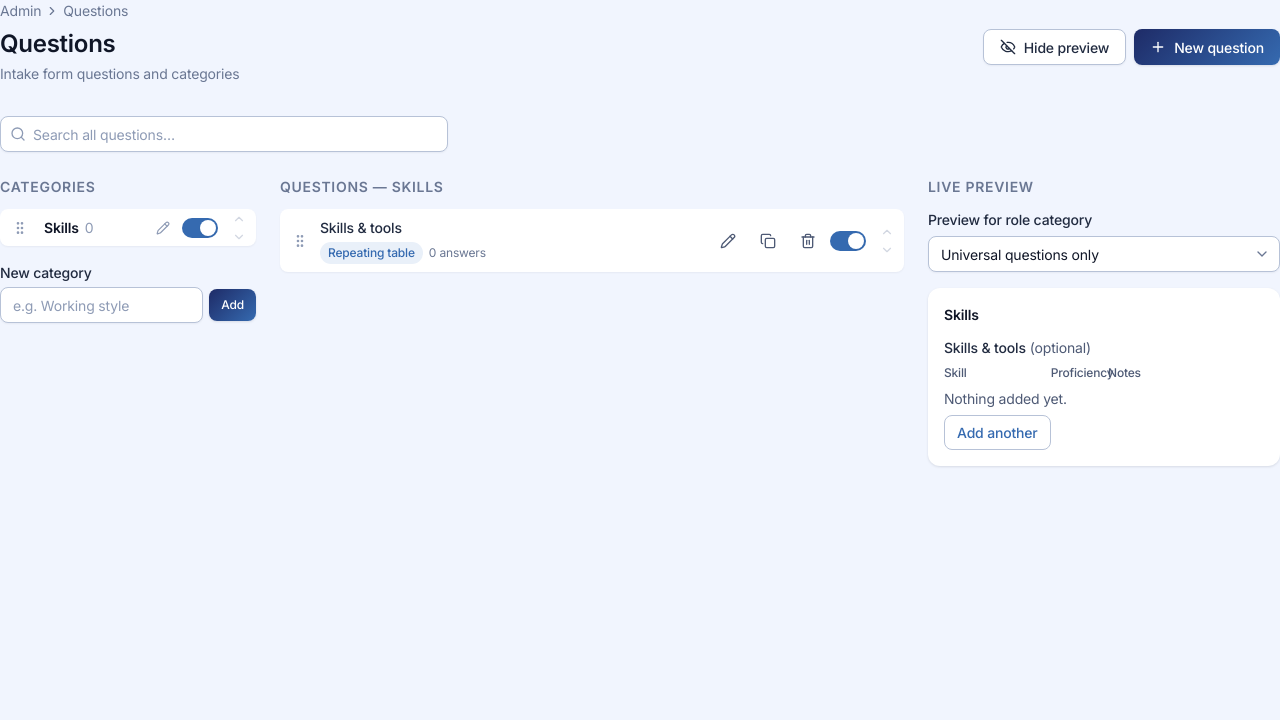
Test case: a repeating group's columns are shown, never edited › says so plainly when a new repeating group has no columns yet
The width and height of the screenshot is (1280, 720).
Click the button "New question".
click(1207, 47)  # box x1=1134 y1=29 x2=1279 y2=65
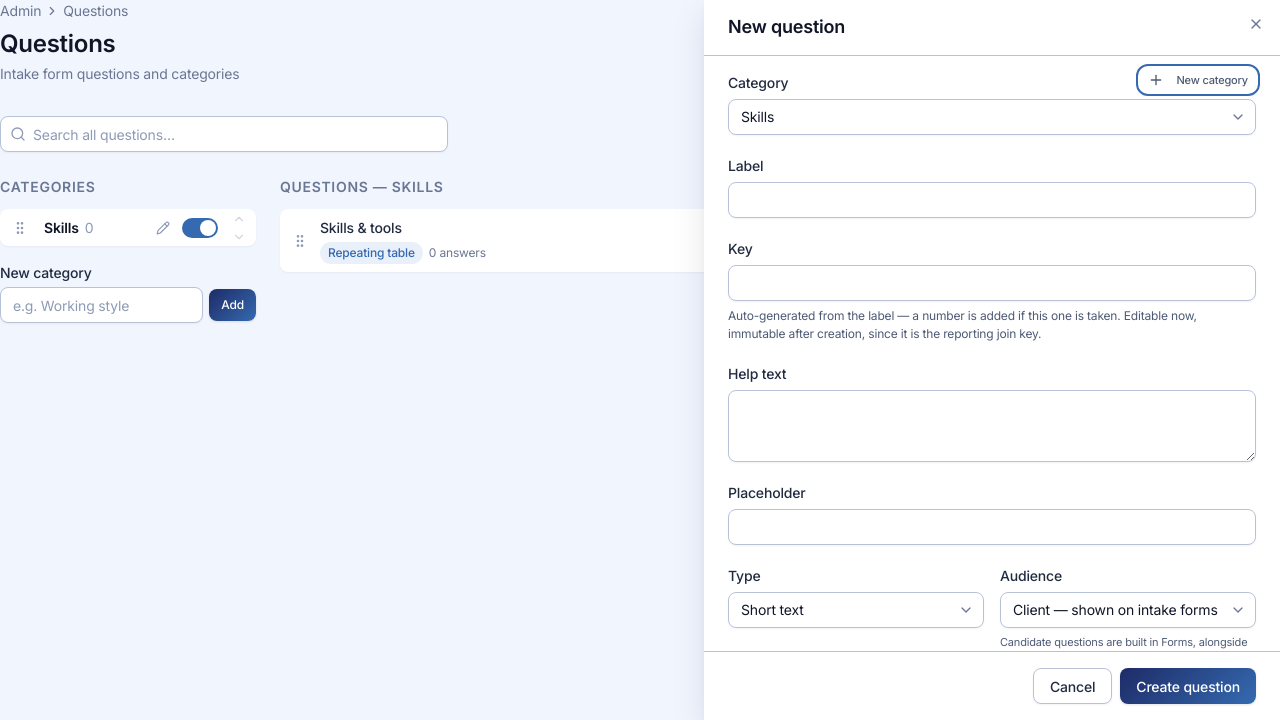
Select "Repeating table" in the dropdown labelled "Type" at (856, 610), box x1=728 y1=592 x2=984 y2=628
(page scrolled)
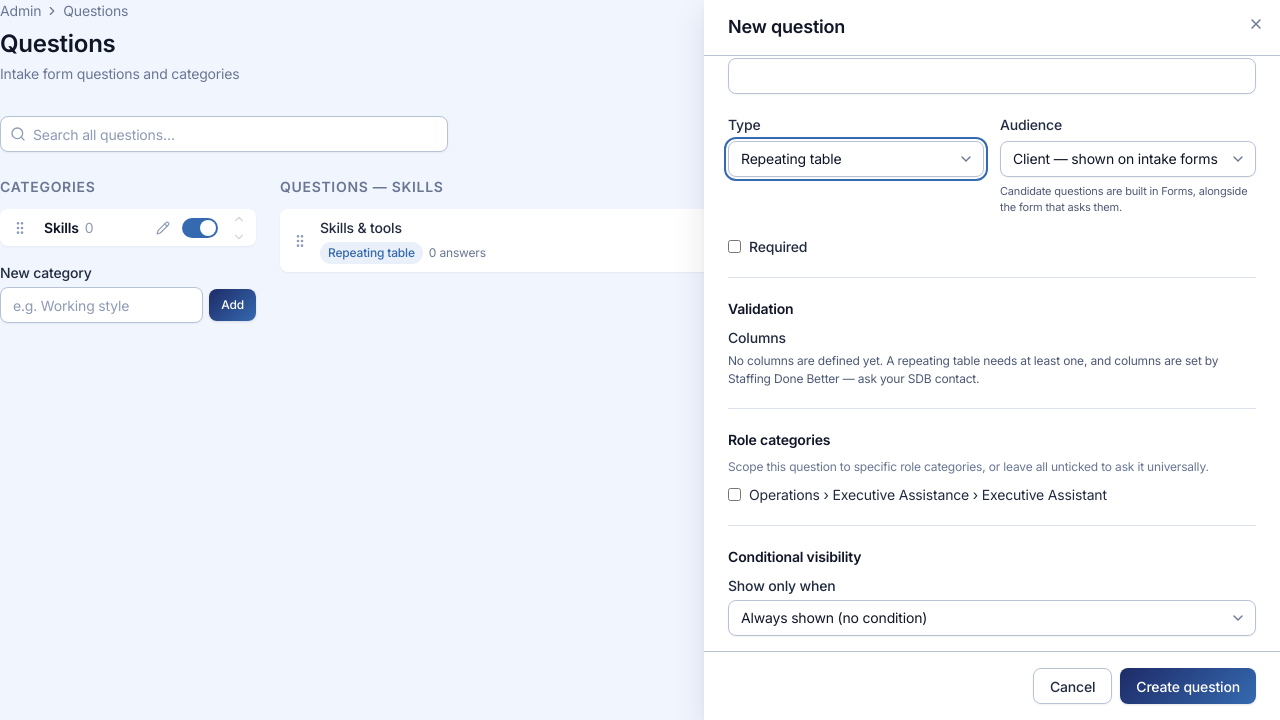
Expected: the element "Columns" shows "No columns", x1=728 y1=353 x2=1218 y2=386
